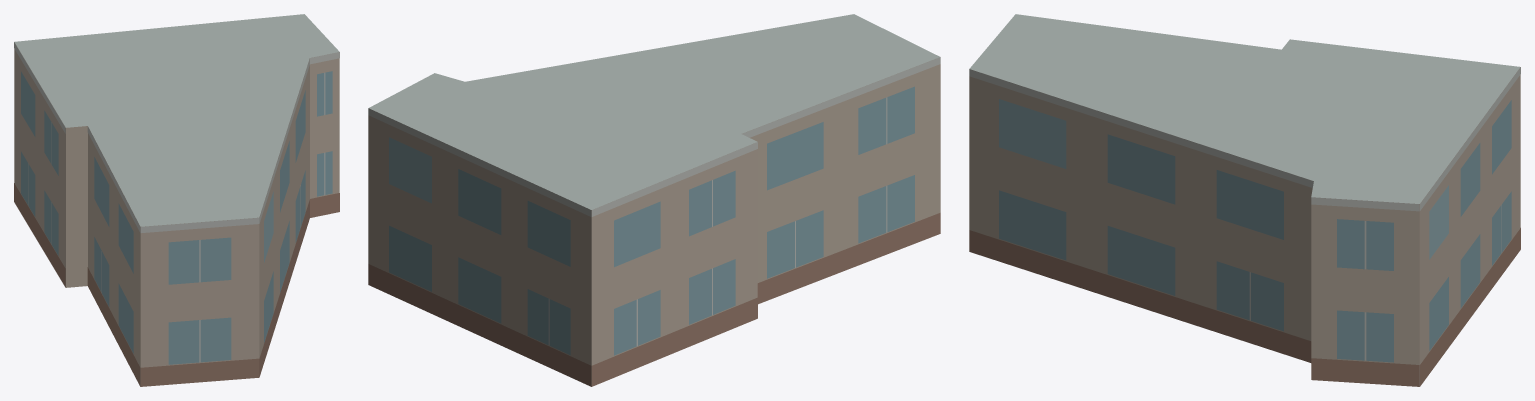
Rendered from survey-upis-32572585.glb.
3 renders of one model, left to right at view 1: azimuth 30°, elevation 25°; view 2: azimuth 150°, elevation 25°; view 3: azimuth 270°, elevation 25°, orthographic. The views are drawn at different scales.
Parts seen in each view (by area): view 1: survey-upis-32572585.tmp; view 2: survey-upis-32572585.tmp; view 3: survey-upis-32572585.tmp.
Part boxes in pixels (<box>): survey-upis-32572585.tmp: <box>14,14,339,386</box>; survey-upis-32572585.tmp: <box>368,14,940,386</box>; survey-upis-32572585.tmp: <box>969,14,1520,386</box>.
Size of the model in its own units: 13.61 by 6.1 by 16.69.
